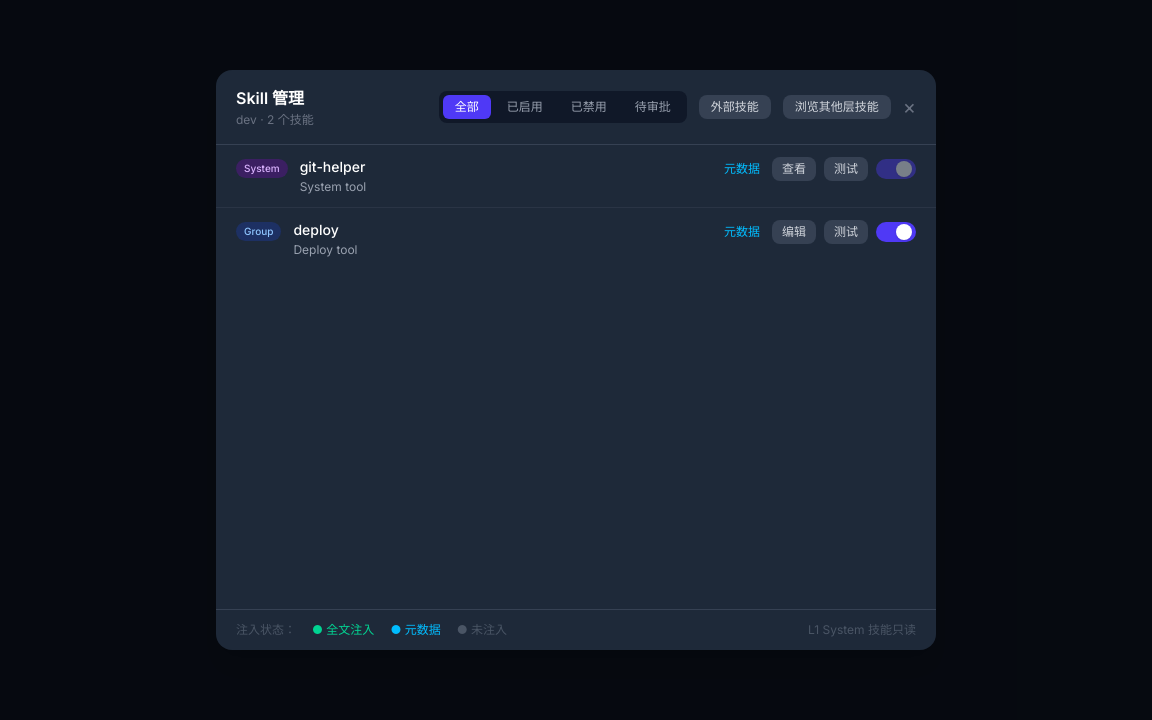
Test: SkillPanel external-skills entry point › opens skill editor in view-only mode for system skills
The image size is (1152, 720).
Check: the text "git-helper" is shown, box [300,157,365,177]
# Find the View/Edit button in the git-helper row
Click the button "查看" at {"x": 794, "y": 169}, box [772,157,816,181]
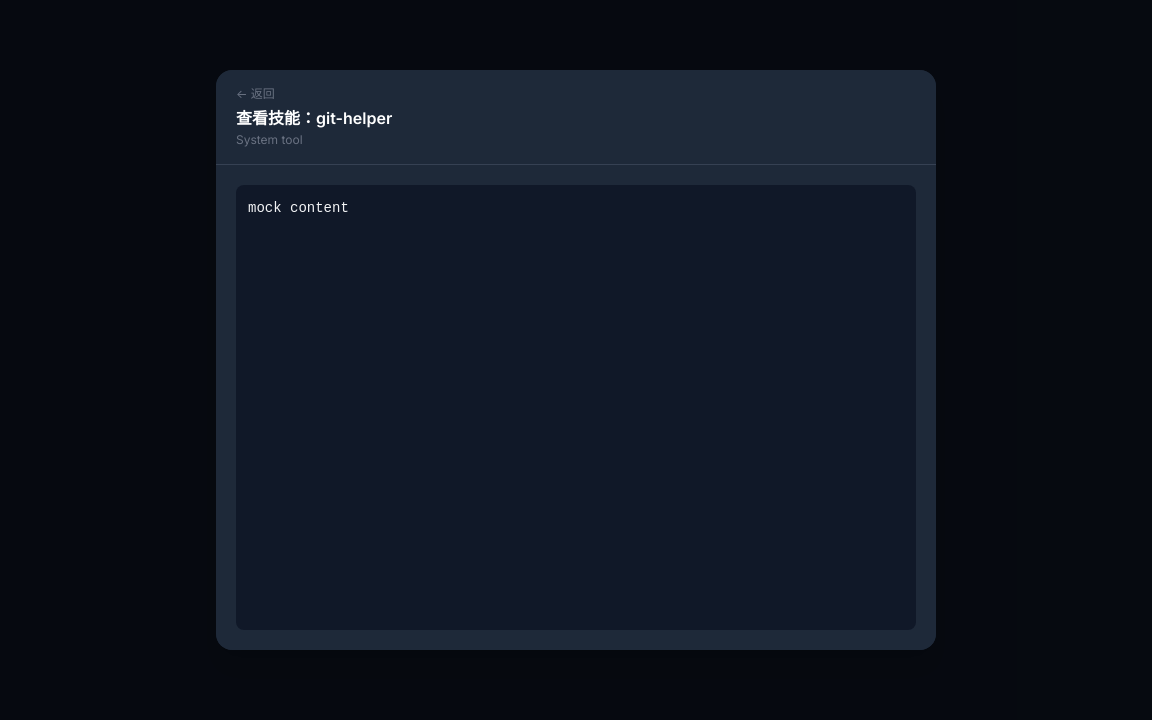
Check: the text box with placeholder "# SKILL.md..." is shown, box [236,185,916,630]
